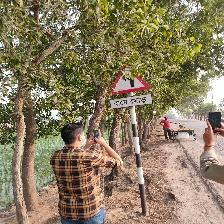Left-Turn: (109, 68, 153, 109)
